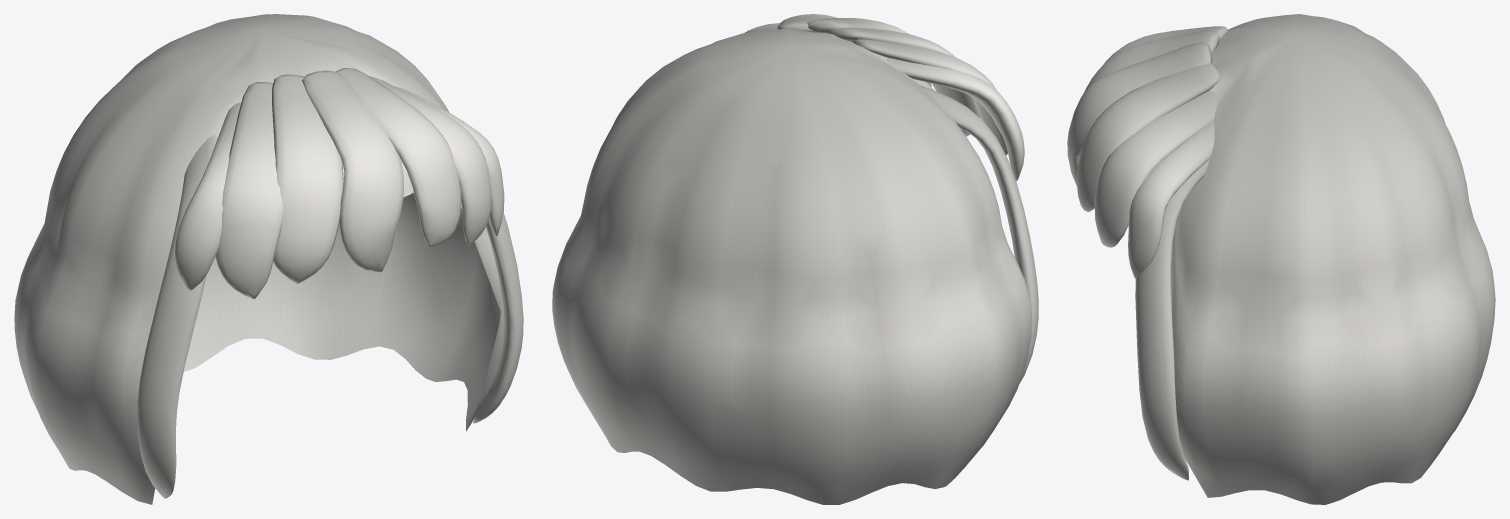
The model's file is short-bob-v1.glb.
The picture shows the model from 3 angles, left to right: view 1: azimuth 30°, elevation 25°; view 2: azimuth 150°, elevation 25°; view 3: azimuth 270°, elevation 25°; orthographic projection. The views are drawn at different scales.
Visible parts, largest first — view 1: Short bob · sculpted volumes; view 2: Short bob · sculpted volumes; view 3: Short bob · sculpted volumes.
Boxes of the visible parts, x1,y1,x2,y2 form: Short bob · sculpted volumes: [14, 14, 523, 504]; Short bob · sculpted volumes: [552, 14, 1038, 504]; Short bob · sculpted volumes: [1067, 14, 1495, 504].
Size of the model in its own units: 1.1 by 0.9484 by 0.9443.
Materials: 1 (1 with a texture image).
